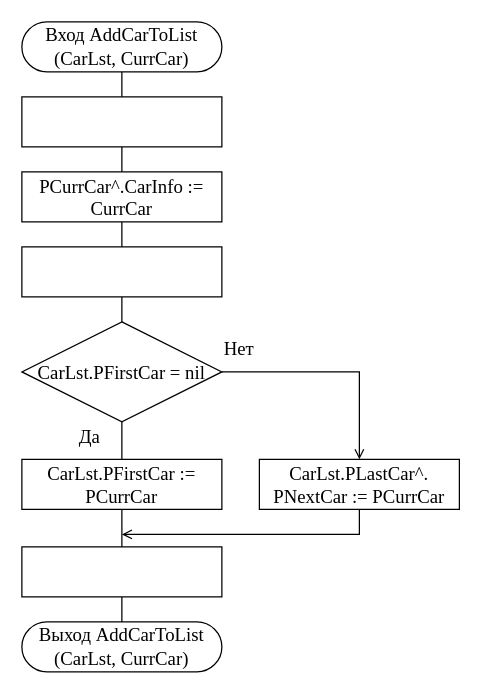
Some shapes in this 481 by 694 pixel diagram are drawn without their labels. The centre of each missing label's shape, as x and y in pixels:
CarLst.PLastCar := PCurrCar: [121,571]
New(PCurrCar): [121,121]
PCurrCar^.PNextCar := nil: [121,271]
